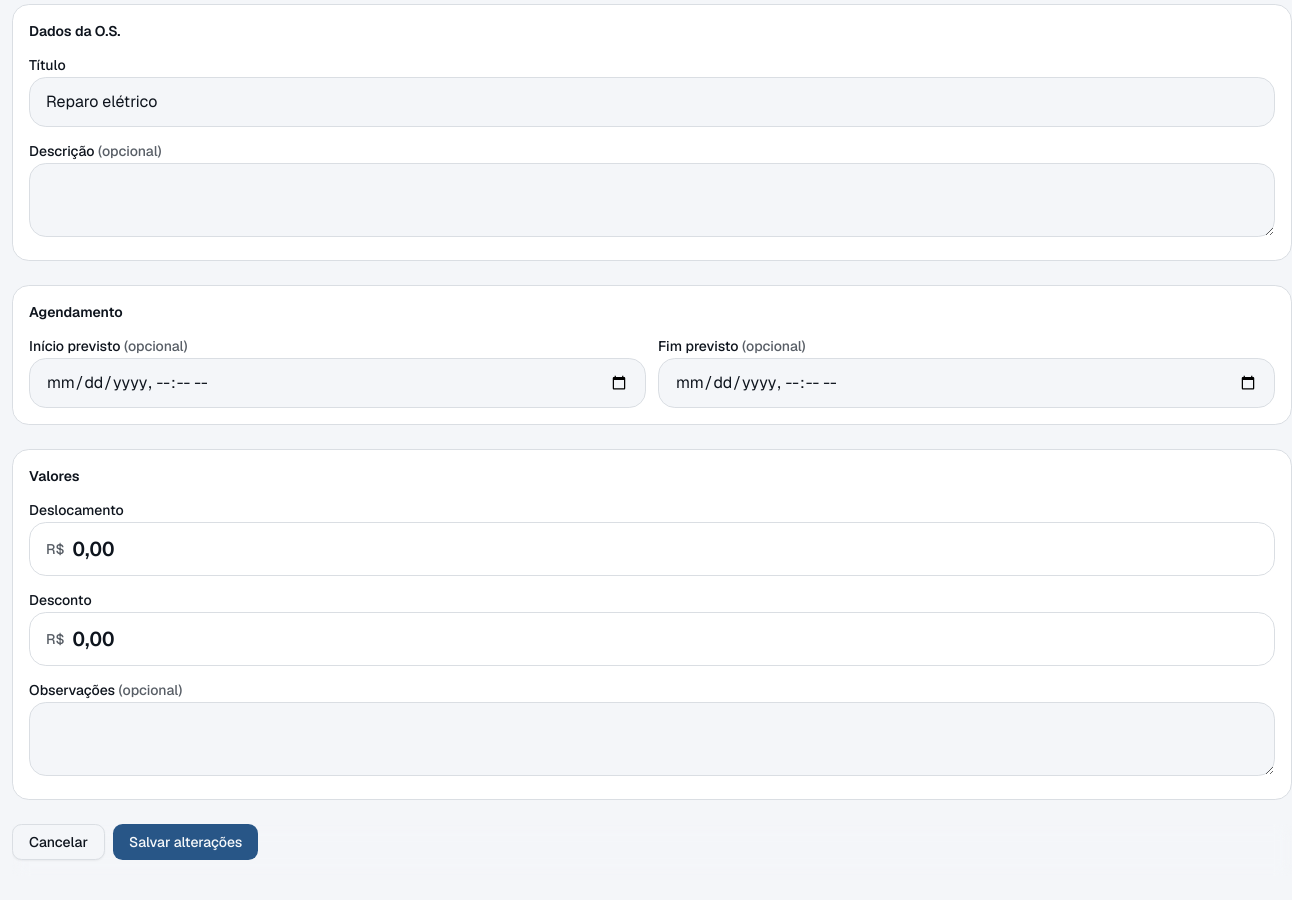
Test: ServiceOrderEdit › EH10: a 409 on save re-GETs the order and renders the readonly block once it is now terminal
This screenshot has width=1292, height=900.
(page scrolled)
Click the button "Salvar alterações" at [186, 842], box [113,824,258,860]
(page scrolled)
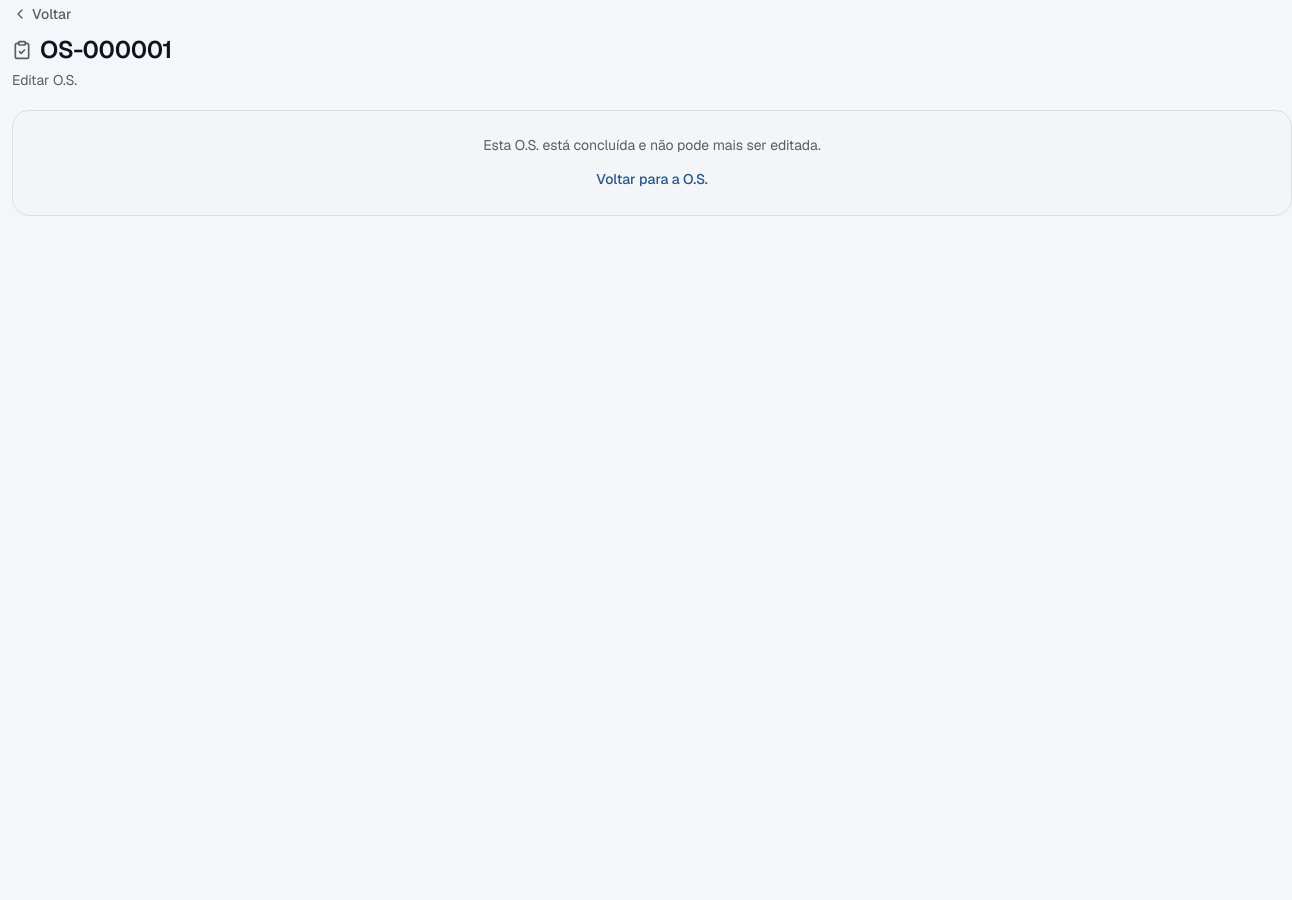
Now the text "Esta O.S. está concluída e não pode mais ser editada." is shown, box [483,136,821,154]
Now the button "Salvar alterações" is gone
